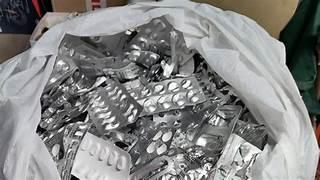pill_Strip: (38, 17, 246, 178), (59, 33, 139, 79), (127, 16, 193, 64), (39, 71, 91, 129), (129, 76, 205, 115), (88, 78, 141, 133), (59, 35, 127, 77), (71, 132, 130, 179), (193, 105, 241, 154), (209, 134, 261, 179), (129, 119, 175, 168), (41, 70, 93, 108), (57, 122, 91, 180), (153, 107, 202, 147), (88, 88, 126, 134), (126, 17, 172, 54), (104, 78, 141, 121), (133, 76, 200, 99), (161, 30, 193, 77), (82, 28, 135, 56), (39, 97, 84, 129), (39, 99, 85, 130), (129, 118, 156, 168), (139, 127, 175, 164), (43, 55, 77, 92), (193, 53, 227, 88), (59, 34, 106, 59), (162, 148, 199, 178), (153, 107, 201, 130), (129, 155, 173, 179), (75, 57, 129, 76), (233, 120, 267, 148), (192, 91, 227, 117), (40, 127, 64, 161), (161, 30, 178, 77), (104, 130, 138, 151), (220, 85, 247, 111), (170, 123, 198, 148), (103, 62, 141, 80), (175, 30, 194, 64), (194, 70, 216, 97), (39, 110, 70, 129), (128, 50, 159, 67), (140, 64, 163, 83), (220, 85, 240, 104), (177, 56, 194, 76), (209, 70, 227, 88), (122, 79, 143, 92), (240, 110, 258, 123)
